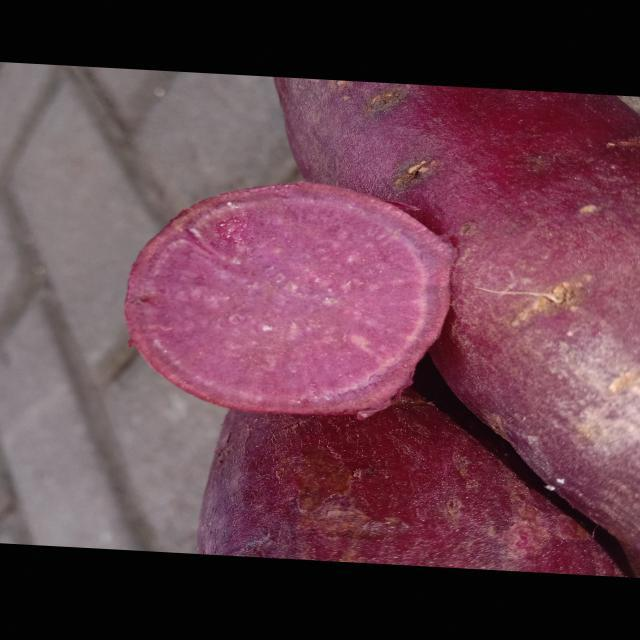Healthy Sweet Potato: (125, 182, 455, 418)
